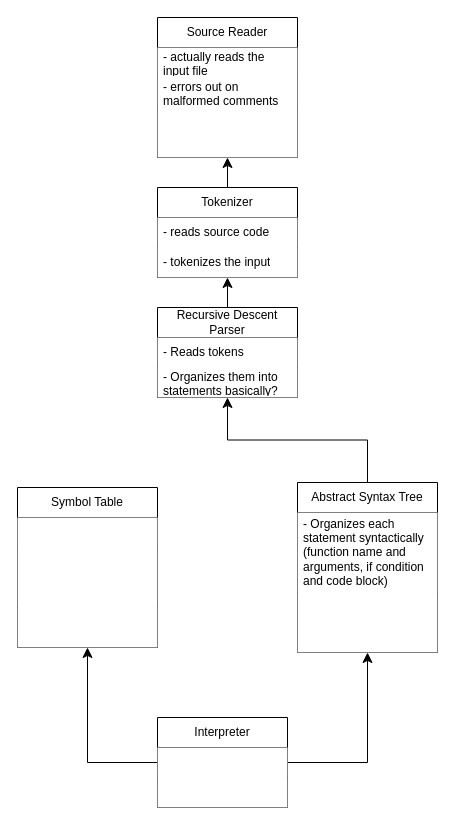
Image size: 455x825. Some labels were removed from this diagram. Each missing label, with the centre of its shape:
- a lot of these are made and deleted: (x=87, y=627)
- basically just an ifstream but doesn't output code comments: (x=227, y=132)
- does the magic: (x=222, y=792)
- keeps track of function / variable / etc names and their values / definitions: (x=87, y=577)
- represents scope kinda: (x=87, y=532)
- takes source file argument: (x=222, y=762)
-Last step before execution actually happens: (x=367, y=622)
